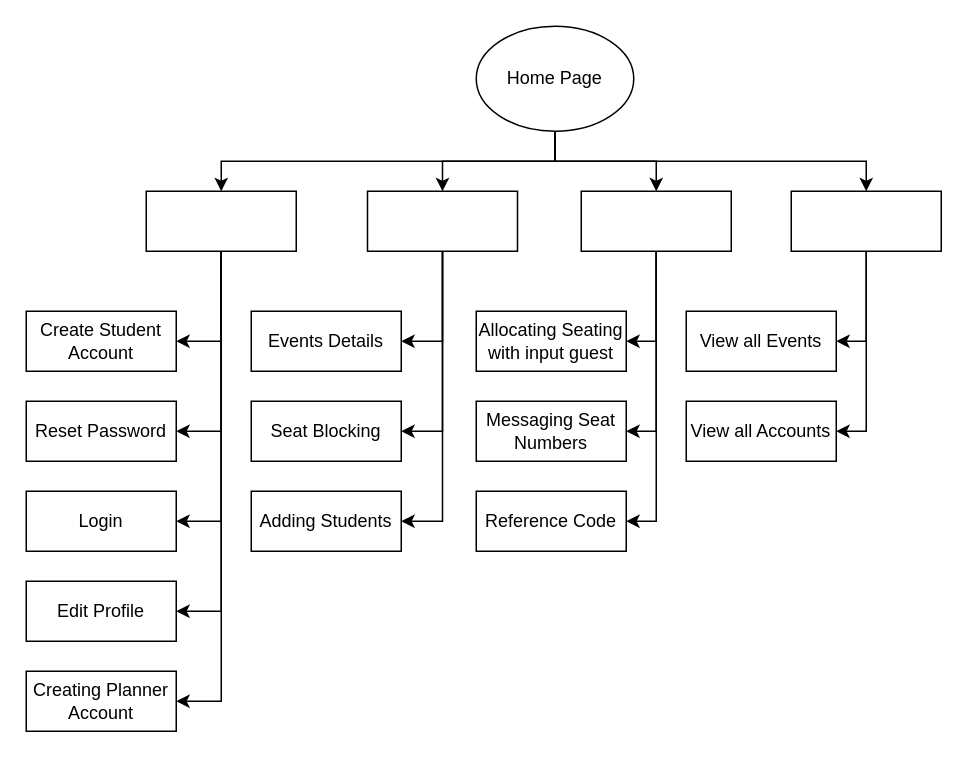
Image size: 968x758. Some labels were removed from this diagram. The centre of each missing label's shape, as x and y in pixels:
Account Management: (x=220, y=220)
Create Event: (x=442, y=220)
Entering Guest Details: (x=655, y=220)
View: (x=865, y=220)
